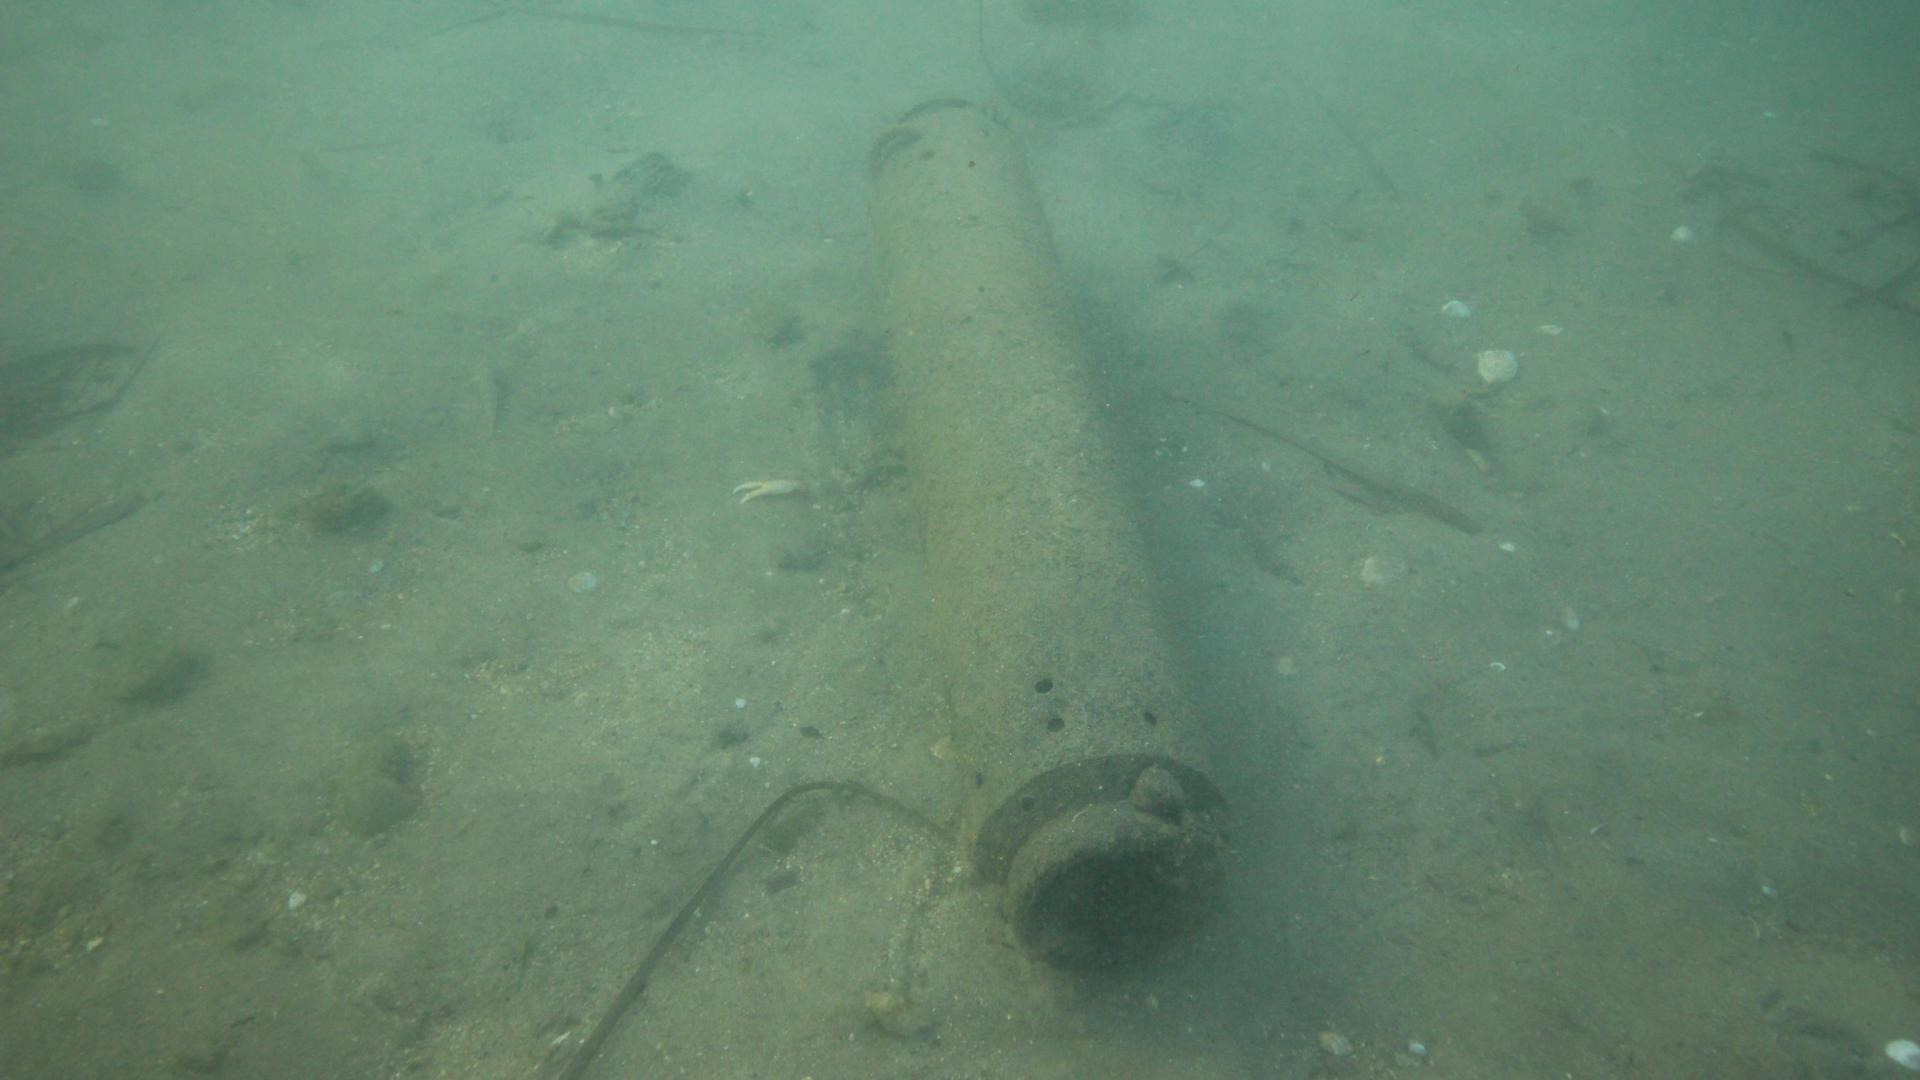eel fish trap: (870, 98, 1226, 968)
